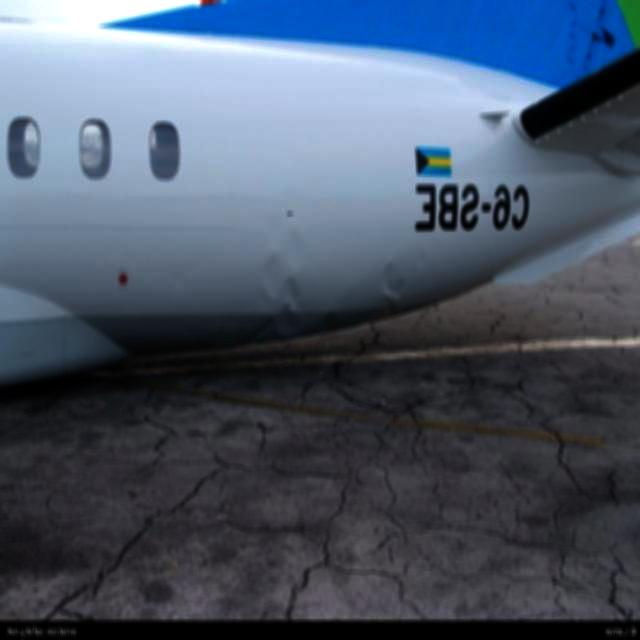dent: (252, 225, 307, 349), (369, 255, 412, 315), (317, 311, 342, 337)
